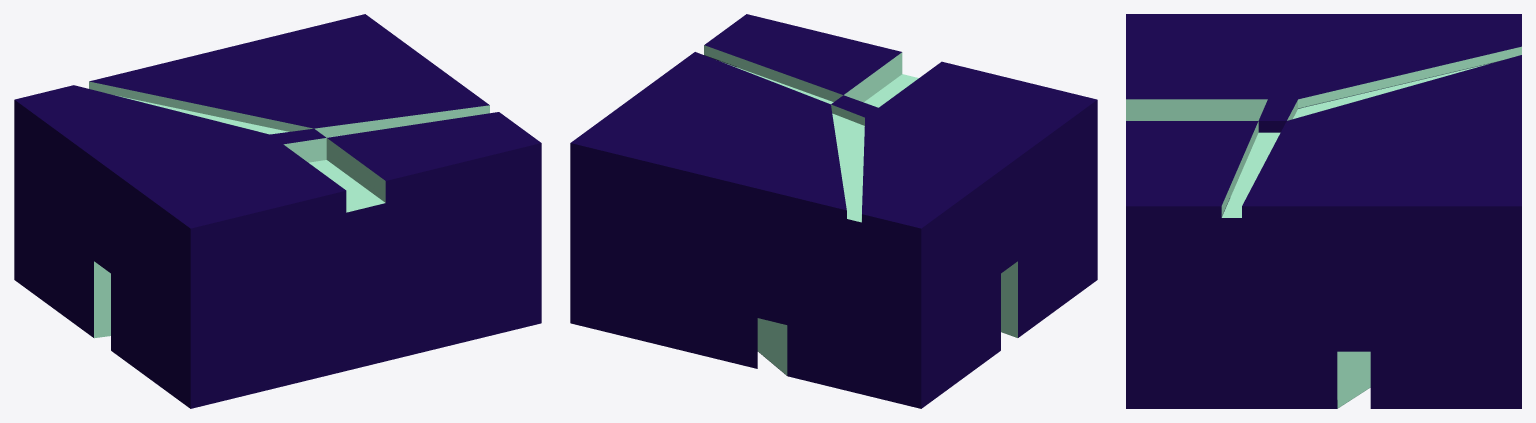
The model's file is Platform03.fbx.
3 renders of one model, left to right at view 1: azimuth 30°, elevation 25°; view 2: azimuth 150°, elevation 25°; view 3: azimuth 270°, elevation 25°, orthographic. The views are drawn at different scales.
Parts seen in each view (by area): view 1: Box070; view 2: Box070; view 3: Box070.
Boxes of the visible parts, bbox=[...] form: Box070: bbox=[14, 14, 541, 408]; Box070: bbox=[570, 14, 1097, 408]; Box070: bbox=[1126, 14, 1521, 408].
Bounding box in the file's own units: 153 × 75.19 × 133.
